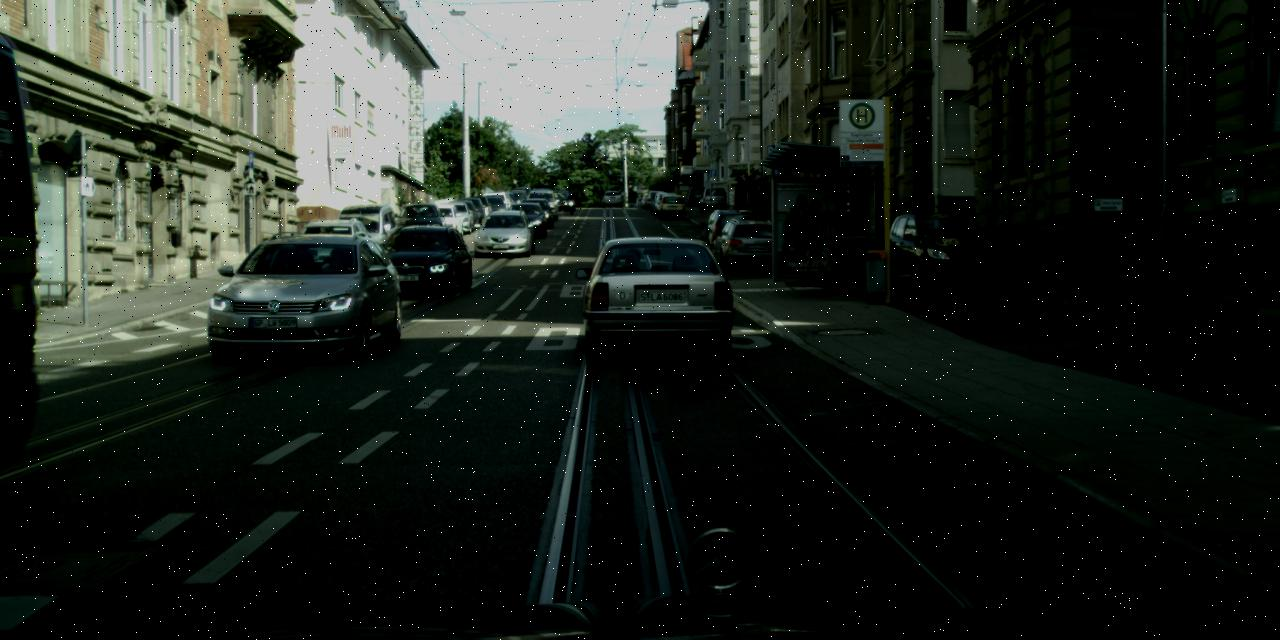ped: (568, 190, 574, 208)
